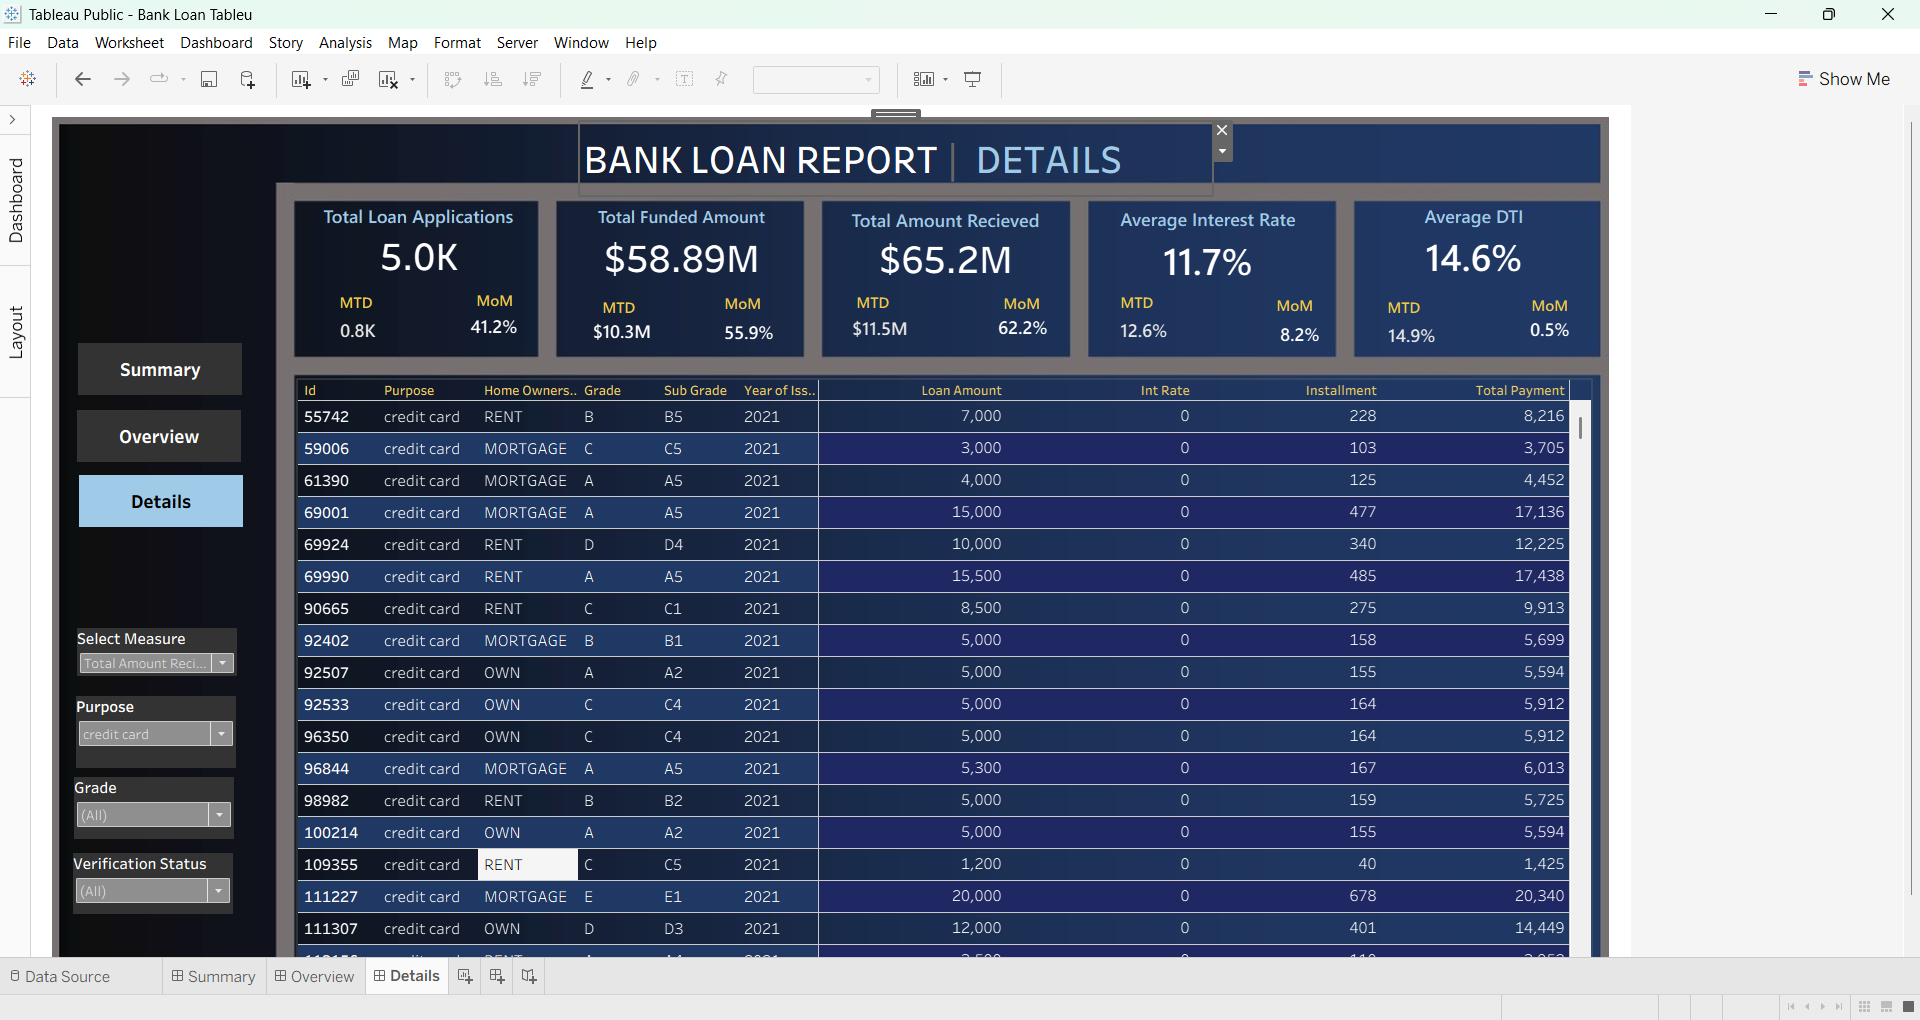

What the dashboard file says about the page in this screenshot:
{"tool":"powerbi","page":{"name":"Details","canvas":[1280,720],"ordinal":2},"visuals":[{"type":"shape","box":[0,0,1280.3,52.1],"z":0},{"type":"shape","box":[208.6,68.6,182,116.6],"z":0,"group":"g1"},{"type":"shape","box":[421.6,68.6,182,116.6],"z":0,"group":"g2"},{"type":"shape","box":[847.7,70,182,116.6],"z":0,"group":"g4"},{"type":"shape","box":[1053.9,70,192.3,116.6],"z":0,"group":"g5"},{"type":"shape","box":[634.7,71.4,182,116.6],"z":0,"group":"g3"},{"type":"shape","box":[1.4,52.1,192.1,668.3],"z":1000},{"type":"card","fields":{"Values":["bank_loan_data.Total Loan Applications"]},"box":[234.2,75.5,130.8,63.1],"z":1000,"group":"g1"},{"type":"card","fields":{"Values":["bank_loan_data.TOTAL FUNDED AMOUNT"]},"box":[442.7,81.5,142.7,54.9],"z":1000,"group":"g2"},{"type":"card","fields":{"Values":["bank_loan_data.AVG INTEREST RATE"]},"box":[868.8,82.9,142.7,54.9],"z":1000,"group":"g4"},{"type":"card","fields":{"Values":["bank_loan_data.Total Funded Amount"]},"box":[1076.2,82.9,150.8,54.9],"z":1000,"group":"g5"},{"type":"card","fields":{"Values":["bank_loan_data.TOTAL RECIEVED AMOUNT"]},"box":[655.8,84.2,142.7,54.9],"z":1000,"group":"g3"},{"type":"textbox","box":[629.1,65.6,208.9,35],"z":2000,"group":"g3"},{"type":"group","id":"g1","title":"Group 1","box":[208.6,68.6,194.9,116.6],"z":2000},{"type":"textbox","box":[208.6,68.6,194.9,38.4],"z":2000,"group":"g1"},{"type":"textbox","box":[421.6,68.6,194.9,38.4],"z":2000,"group":"g2"},{"type":"textbox","box":[847.7,70,194.9,38.4],"z":2000,"group":"g4"},{"type":"textbox","box":[1053.9,70,205.8,38.4],"z":2000,"group":"g5"},{"type":"group","id":"g2","title":"Group 1","box":[421.6,68.6,194.9,116.6],"z":3000},{"type":"card","title":"MTD","fields":{"Values":["bank_loan_data.MTD LOAN APPLICATIONS"]},"box":[208.6,131.7,85.9,45.3],"z":3000,"group":"g1"},{"type":"card","title":"MTD","fields":{"Values":["bank_loan_data.MTD FUNDED AMOUNT"]},"box":[421.6,131.7,85.9,45.3],"z":3000,"group":"g2"},{"type":"card","title":"MTD","fields":{"Values":["bank_loan_data.MTD AVG INT RATE"]},"box":[847.7,133.1,85.9,45.3],"z":3000,"group":"g4"},{"type":"card","title":"MTD","fields":{"Values":["bank_loan_data.MTD AVG DTI"]},"box":[1053.9,133.1,90.7,45.3],"z":3000,"group":"g5"},{"type":"card","title":"MTD","fields":{"Values":["bank_loan_data.MTD TOTAL Recieved  AMOUNT"]},"box":[634.7,134.5,85.9,45.3],"z":3000,"group":"g3"},{"type":"group","id":"g3","title":"Group 1","box":[629.1,65.6,208.9,122.4],"z":4000},{"type":"card","title":"MOM","fields":{"Values":["bank_loan_data.MOM LOAN APPLICATIONS"]},"box":[299.6,130.3,85.9,45.3],"z":4000,"group":"g1"},{"type":"card","title":"MOM","fields":{"Values":["bank_loan_data.MOM FUNDED AMOUNT"]},"box":[512.6,130.3,85.9,45.3],"z":4000,"group":"g2"},{"type":"card","title":"MOM","fields":{"Values":["bank_loan_data.MOM AVG INT T"]},"box":[938.7,131.7,85.9,45.3],"z":4000,"group":"g4"},{"type":"card","title":"MOM","fields":{"Values":["bank_loan_data.MOM AVG DTI"]},"box":[1150,131.7,90.7,45.3],"z":4000,"group":"g5"},{"type":"card","title":"MOM","fields":{"Values":["bank_loan_data.MOM received AMOUNT"]},"box":[725.7,133.1,85.9,45.3],"z":4000,"group":"g3"},{"type":"group","id":"g4","title":"Group 1","box":[847.7,70,194.9,116.6],"z":5000},{"type":"group","id":"g5","title":"Group 1","box":[1053.9,70,205.8,116.6],"z":6000},{"type":"actionButton","box":[0,0,100,40],"z":7000},{"type":"slicer","fields":{"Values":["bank_loan_data.address_state"]},"box":[9.6,455,164,43.7],"z":8000},{"type":"textbox","box":[9.6,427.7,87.4,49.2],"z":9000},{"type":"textbox","box":[9.7,507.9,103.8,45.8],"z":10000},{"type":"shape","box":[210.4,211.8,1035.7,496],"z":11000},{"type":"slicer","fields":{"Values":["bank_loan_data.grade"]},"box":[15,542.4,164,50.6],"z":12000},{"type":"slicer","fields":{"Values":["bank_loan_data.purpose"]},"box":[9.6,639.5,168.8,49.4],"z":13000},{"type":"textbox","box":[14.5,605.6,85.7,49.5],"z":14000},{"type":"tableEx","fields":{"Values":["bank_loan_data.id","bank_loan_data.purpose","bank_loan_data.home_ownership","bank_loan_data.grade","bank_loan_data.sub_grade","bank_loan_data.issue_date","bank_loan_data.Total funded amount","Sum(bank_loan_data.int_rate)","Sum(bank_loan_data.installment)","bank_loan_data.Total Received Amount"]},"box":[209.9,112.2,1037.5,486.2],"z":15000},{"type":"pageNavigator","box":[7.2,185.8,179.8,187],"z":16000},{"type":"textbox","box":[440.5,0,481.6,52.1],"z":17000},{"type":"image","box":[14.5,51.9,168.9,105],"z":18000}]}

Visuals, with their boxes on the page's 1280x720 design canvas (x1, y1, x2, y2). These are canvas units, not pixel positions in the 1920x1020 screenshot, which may show the page scaled, cropped or inside an application window:
shape: [x1=0, y1=0, x2=1280, y2=52]
shape: [x1=209, y1=69, x2=391, y2=185]
shape: [x1=422, y1=69, x2=604, y2=185]
shape: [x1=848, y1=70, x2=1030, y2=187]
shape: [x1=1054, y1=70, x2=1246, y2=187]
shape: [x1=635, y1=71, x2=817, y2=188]
shape: [x1=1, y1=52, x2=194, y2=720]
card - bank_loan_data.Total Loan Applications: [x1=234, y1=76, x2=365, y2=139]
card - bank_loan_data.TOTAL FUNDED AMOUNT: [x1=443, y1=82, x2=585, y2=136]
card - bank_loan_data.AVG INTEREST RATE: [x1=869, y1=83, x2=1012, y2=138]
card - bank_loan_data.Total Funded Amount: [x1=1076, y1=83, x2=1227, y2=138]
card - bank_loan_data.TOTAL RECIEVED AMOUNT: [x1=656, y1=84, x2=798, y2=139]
textbox: [x1=629, y1=66, x2=838, y2=101]
"Group 1" group: [x1=209, y1=69, x2=404, y2=185]
textbox: [x1=209, y1=69, x2=404, y2=107]
textbox: [x1=422, y1=69, x2=616, y2=107]
textbox: [x1=848, y1=70, x2=1043, y2=108]
textbox: [x1=1054, y1=70, x2=1260, y2=108]
"Group 1" group: [x1=422, y1=69, x2=616, y2=185]
"MTD" card: [x1=209, y1=132, x2=294, y2=177]
"MTD" card: [x1=422, y1=132, x2=508, y2=177]
"MTD" card: [x1=848, y1=133, x2=934, y2=178]
"MTD" card: [x1=1054, y1=133, x2=1145, y2=178]
"MTD" card: [x1=635, y1=134, x2=721, y2=180]
"Group 1" group: [x1=629, y1=66, x2=838, y2=188]
"MOM" card: [x1=300, y1=130, x2=386, y2=176]
"MOM" card: [x1=513, y1=130, x2=598, y2=176]
"MOM" card: [x1=939, y1=132, x2=1025, y2=177]
"MOM" card: [x1=1150, y1=132, x2=1241, y2=177]
"MOM" card: [x1=726, y1=133, x2=812, y2=178]
"Group 1" group: [x1=848, y1=70, x2=1043, y2=187]
"Group 1" group: [x1=1054, y1=70, x2=1260, y2=187]
actionButton: [x1=0, y1=0, x2=100, y2=40]
slicer - bank_loan_data.address_state: [x1=10, y1=455, x2=174, y2=499]
textbox: [x1=10, y1=428, x2=97, y2=477]
textbox: [x1=10, y1=508, x2=114, y2=554]
shape: [x1=210, y1=212, x2=1246, y2=708]
slicer - bank_loan_data.grade: [x1=15, y1=542, x2=179, y2=593]
slicer - bank_loan_data.purpose: [x1=10, y1=640, x2=178, y2=689]
textbox: [x1=14, y1=606, x2=100, y2=655]
tableEx - bank_loan_data.id x bank_loan_data.purpose: [x1=210, y1=112, x2=1247, y2=598]
pageNavigator: [x1=7, y1=186, x2=187, y2=373]
textbox: [x1=440, y1=0, x2=922, y2=52]
image: [x1=14, y1=52, x2=183, y2=157]
